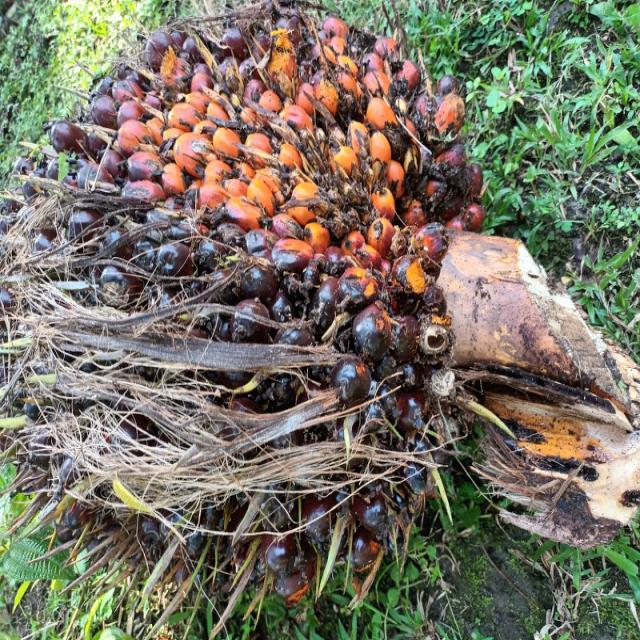fraksi 1: (29, 25, 477, 638)
